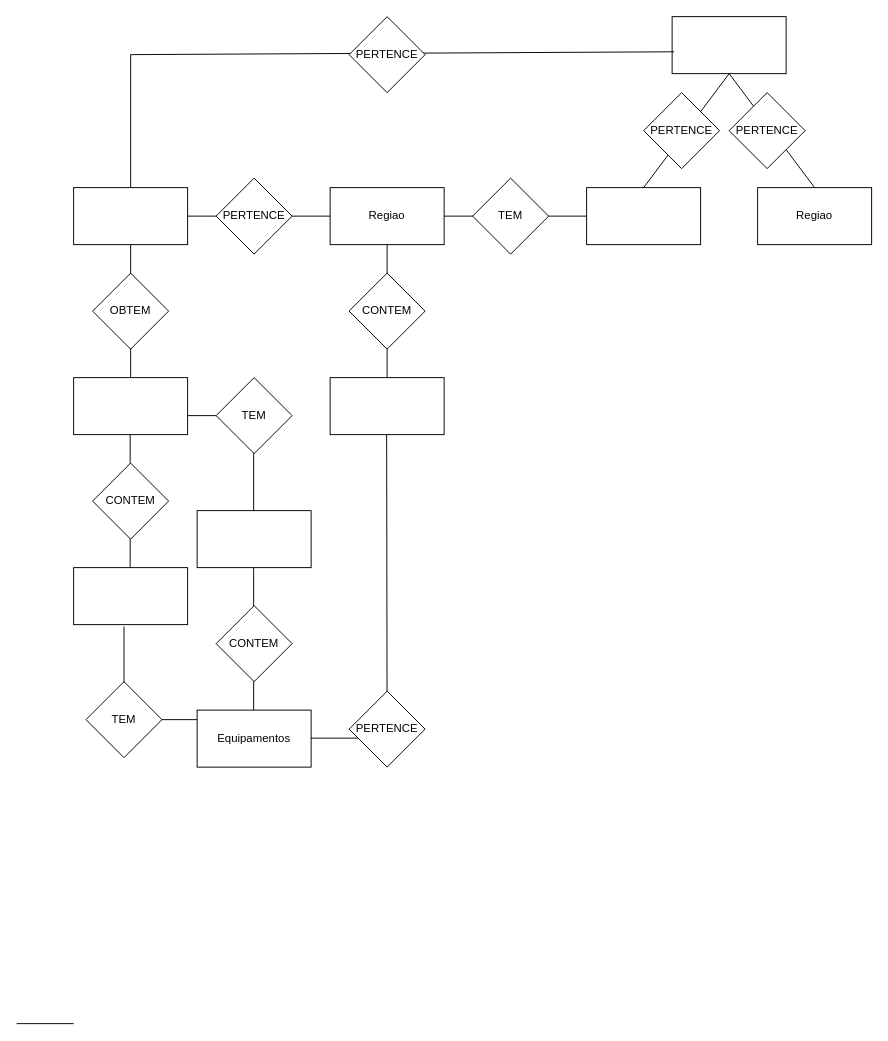
This 888x1041 diagram has some shape labels left out. Here are the shapes that lost their labels. From the top down, the centre of each, then its label:
the point at 728,45: Ticket
the point at 130,216: Cliente
the point at 643,216: Apoio Tecnico
the point at 130,406: Contrato
the point at 386,406: CENTRAL
the point at 253,539: Pacote
the point at 130,596: Faturas
